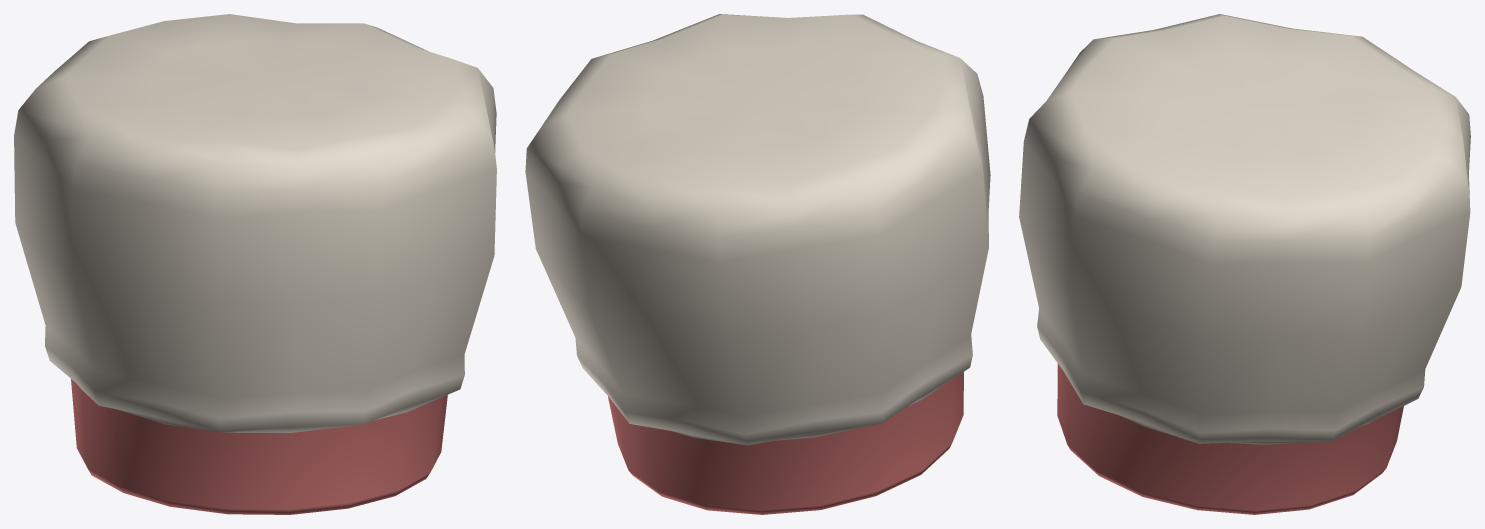
Rendered from Hat_39_03.fbx.
3 renders of one model, left to right at view 1: azimuth 30°, elevation 25°; view 2: azimuth 150°, elevation 25°; view 3: azimuth 270°, elevation 25°, orthographic. The views are drawn at different scales.
Parts seen in each view (by area): view 1: Hat_39_03; view 2: Hat_39_03; view 3: Hat_39_03.
Part boxes in pixels (left/top/right/bottom): Hat_39_03: left=14, top=14, right=496, bottom=514; Hat_39_03: left=525, top=14, right=990, bottom=514; Hat_39_03: left=1019, top=14, right=1470, bottom=514.
Bounding box in the file's own units: 50.23 × 44.62 × 49.27.
